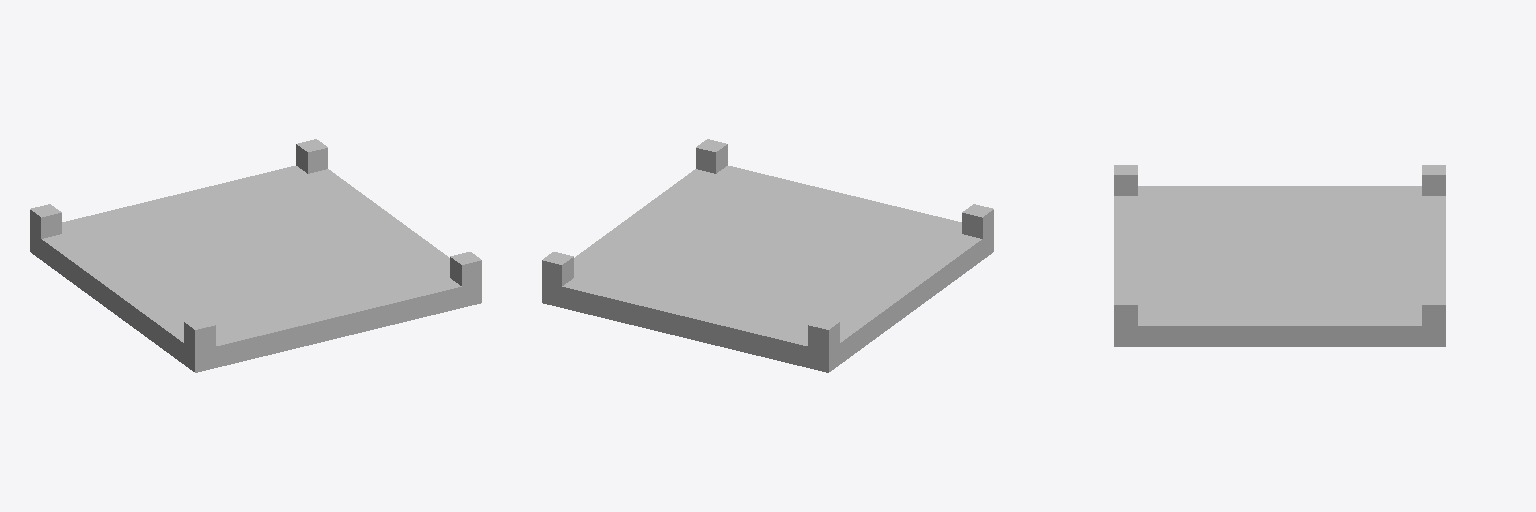
The model's file is civ_farm.obj.
3 renders of one model, left to right at view 1: azimuth 30°, elevation 25°; view 2: azimuth 150°, elevation 25°; view 3: azimuth 270°, elevation 25°, orthographic.
Visible parts, largest first — view 1: model; view 2: model; view 3: model.
Boxes of the visible parts, x1=… form: model: x1=30, y1=139, x2=481, y2=372; model: x1=542, y1=139, x2=993, y2=372; model: x1=1114, y1=165, x2=1445, y2=346.
Size of the model in its own units: 0.875 by 0.125 by 0.875.